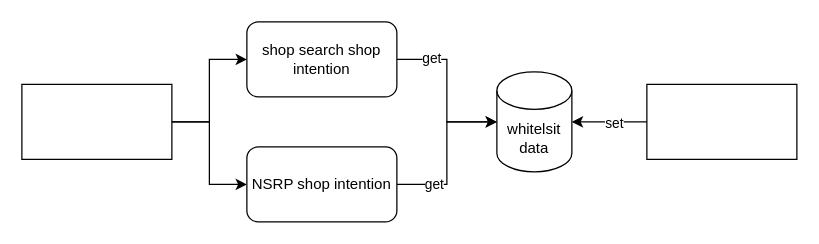
The diagram is 819 pixels wide and 244 high, and some of its shapes have lost their labels. The centre of each missing label's shape, as x and y in pixels:
"querysrvice" goes at [96,121].
"service portal" goes at [721,121].
